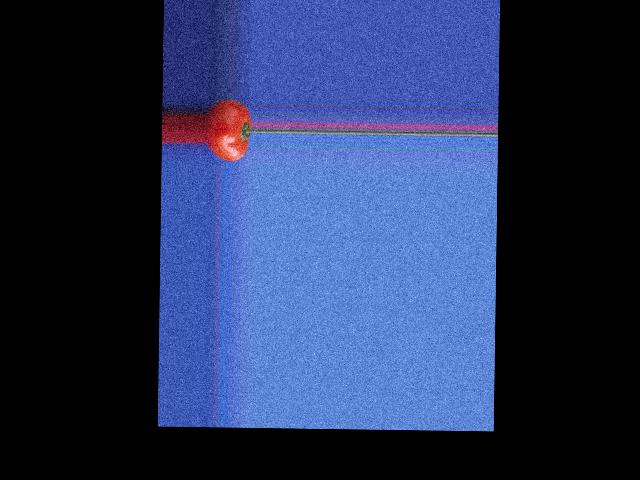tomato: (205, 98, 251, 160)
